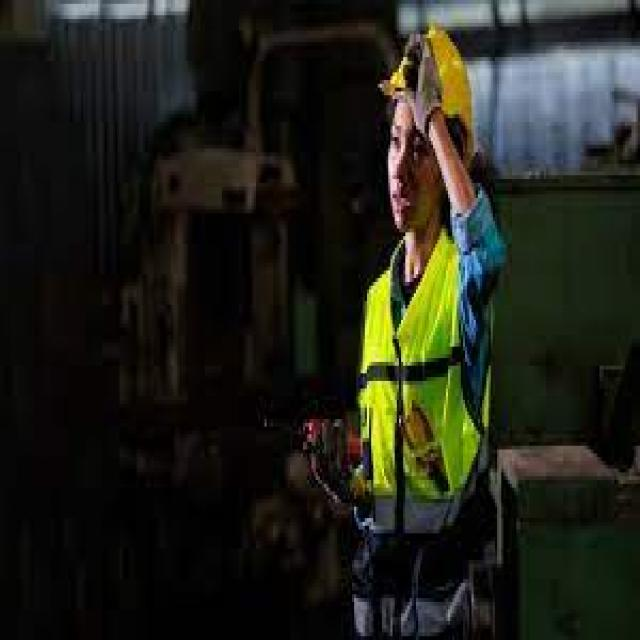Reflective-Jacket: (341, 210, 510, 537)
Safety-Helmet: (371, 15, 491, 179)
